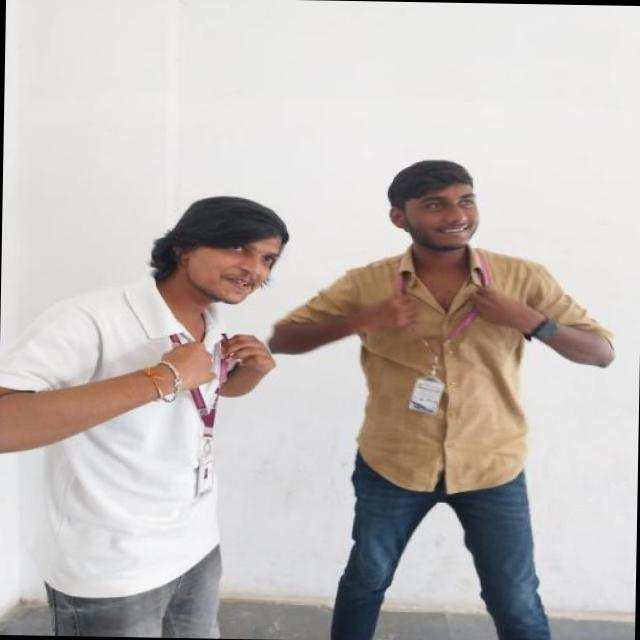id_card: (393, 263, 484, 411), (166, 316, 227, 504)
